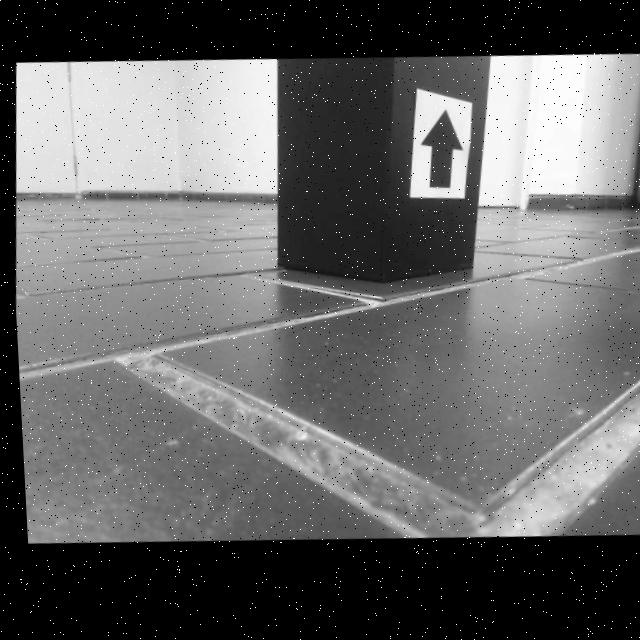UP: (418, 115, 462, 195)
